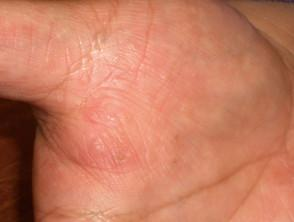Eczema: (85, 135, 113, 160), (113, 143, 138, 168), (97, 111, 121, 134), (163, 150, 184, 174), (80, 106, 105, 125), (159, 72, 181, 93), (163, 133, 184, 153)
